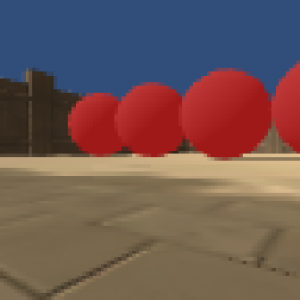badGoal: (177, 57, 273, 169), (116, 77, 185, 163), (64, 88, 125, 165), (275, 53, 300, 158)
